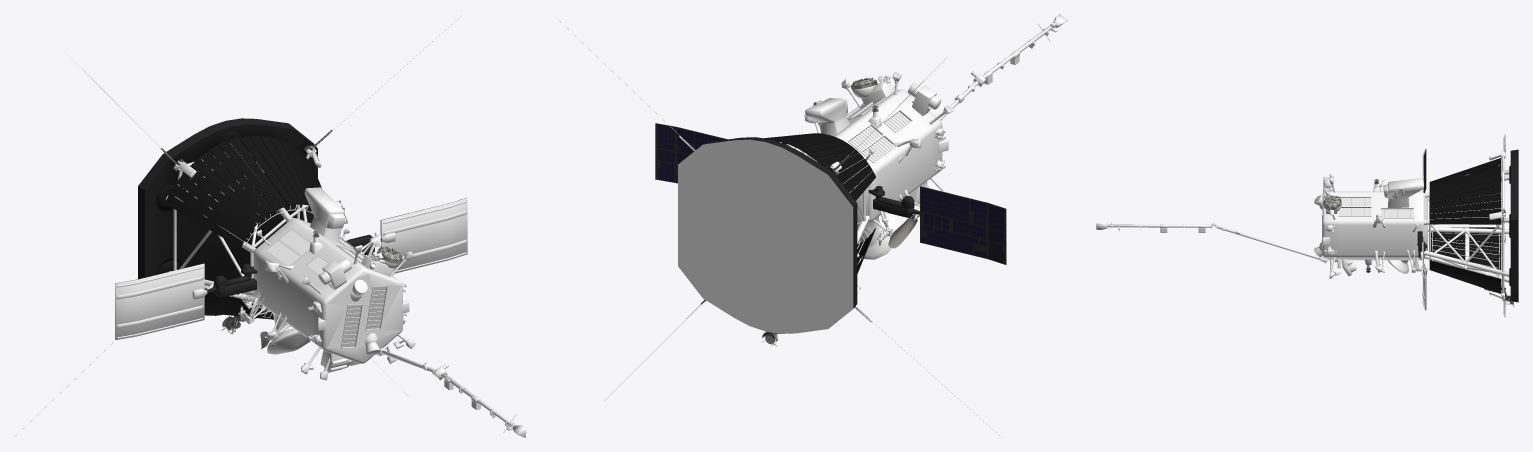
The model's file is parker-solar-probe.glb.
The picture shows the model from 3 angles, left to right: view 1: azimuth 30°, elevation 25°; view 2: azimuth 150°, elevation 25°; view 3: azimuth 270°, elevation 25°; orthographic projection. The views are drawn at different scales.
Visible parts, largest first — view 1: BUS, Instruments, CoolingSystem, solarWing_LeftBacking, solarWing_RightBacking, vents, solarArray_arms, boom, heatShield_Mounting, HGA; view 2: Instruments, BUS, CoolingSystem, vents, boom, solarArray_arms; view 3: BUS, CoolingSystem, Instruments, vents, boom, CoolingSystem_frame.
Boxes of the visible parts, x1=… form: BUS: x1=165, y1=143, x2=415, y2=380; Instruments: x1=115, y1=118, x2=466, y2=348; CoolingSystem: x1=165, y1=136, x2=321, y2=319; solarWing_LeftBacking: x1=115, y1=263, x2=204, y2=339; solarWing_RightBacking: x1=381, y1=198, x2=467, y2=273; vents: x1=265, y1=228, x2=387, y2=348; solarArray_arms: x1=192, y1=232, x2=395, y2=299; boom: x1=377, y1=345, x2=526, y2=437; heatShield_Mounting: x1=156, y1=131, x2=242, y2=294; HGA: x1=267, y1=331, x2=310, y2=354; Instruments: x1=655, y1=77, x2=1006, y2=346; BUS: x1=788, y1=72, x2=953, y2=294; CoolingSystem: x1=764, y1=133, x2=875, y2=273; vents: x1=846, y1=97, x2=912, y2=162; boom: x1=939, y1=14, x2=1067, y2=120; solarArray_arms: x1=868, y1=186, x2=919, y2=217; BUS: x1=1314, y1=151, x2=1509, y2=300; CoolingSystem: x1=1429, y1=158, x2=1501, y2=293; Instruments: x1=1323, y1=134, x2=1518, y2=317; vents: x1=1322, y1=196, x2=1414, y2=242; boom: x1=1096, y1=222, x2=1327, y2=263; CoolingSystem_frame: x1=1429, y1=165, x2=1511, y2=304.
Bounding box in the file's own units: 5.75 × 5.26 × 6.61.
Materials: 8 (2 with a texture image).
